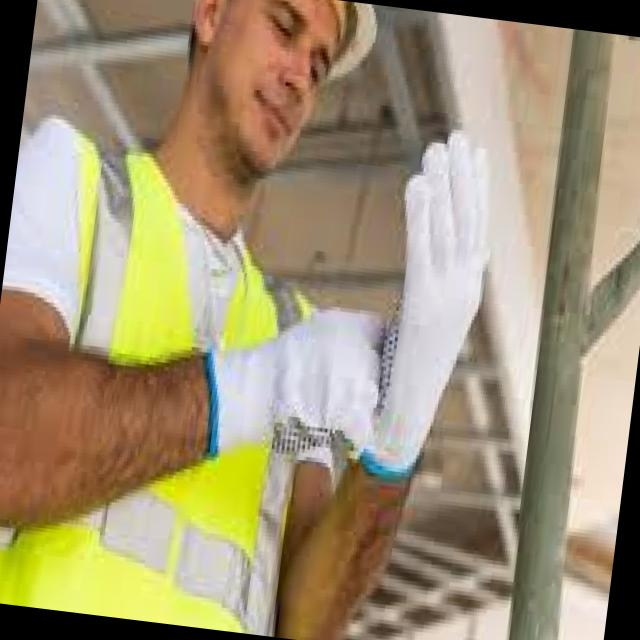gloved: (364, 104, 515, 486), (196, 274, 374, 484)
